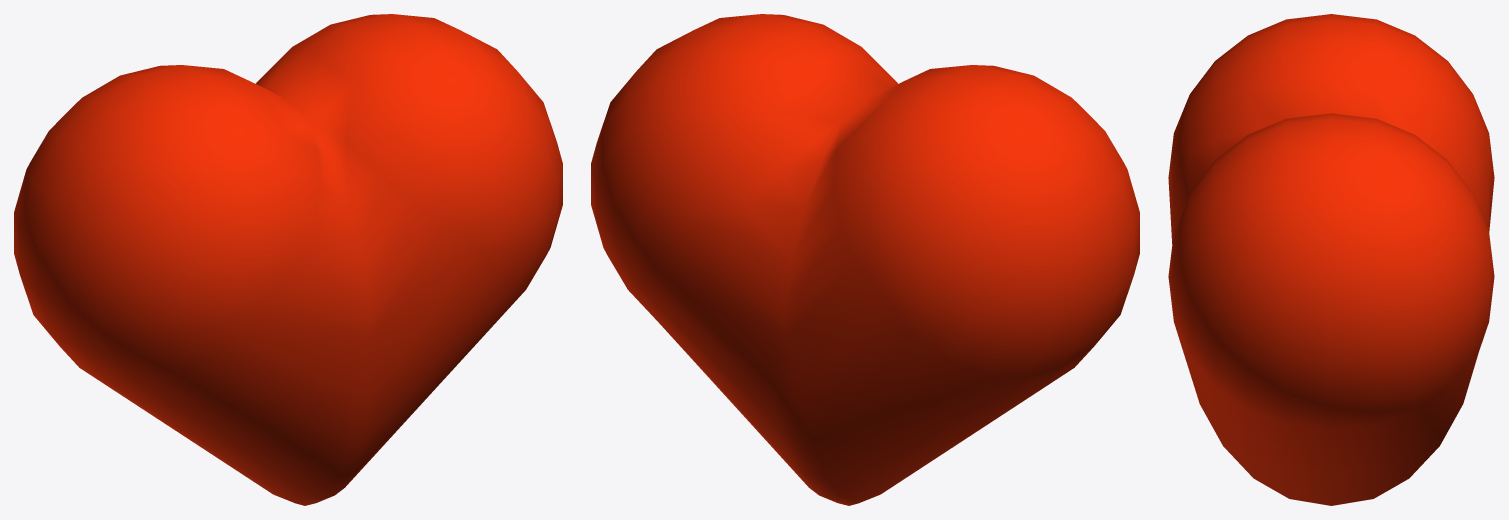
Rendered from Collectible_Heart_01.glb.
3 views of the same model, side by side, from view 1: azimuth 30°, elevation 25°; view 2: azimuth 150°, elevation 25°; view 3: azimuth 270°, elevation 25° (orthographic). The views are drawn at different scales.
Visible parts, largest first — view 1: Collectible_Heart_01; view 2: Collectible_Heart_01; view 3: Collectible_Heart_01.
Part boxes in pixels (x1,y1,x2,y2): Collectible_Heart_01: [14, 14, 562, 505]; Collectible_Heart_01: [591, 14, 1139, 505]; Collectible_Heart_01: [1168, 14, 1494, 505].
Size of the model in its own units: 0.9855 by 0.8266 by 0.5777.
1 material, 1 textured.
